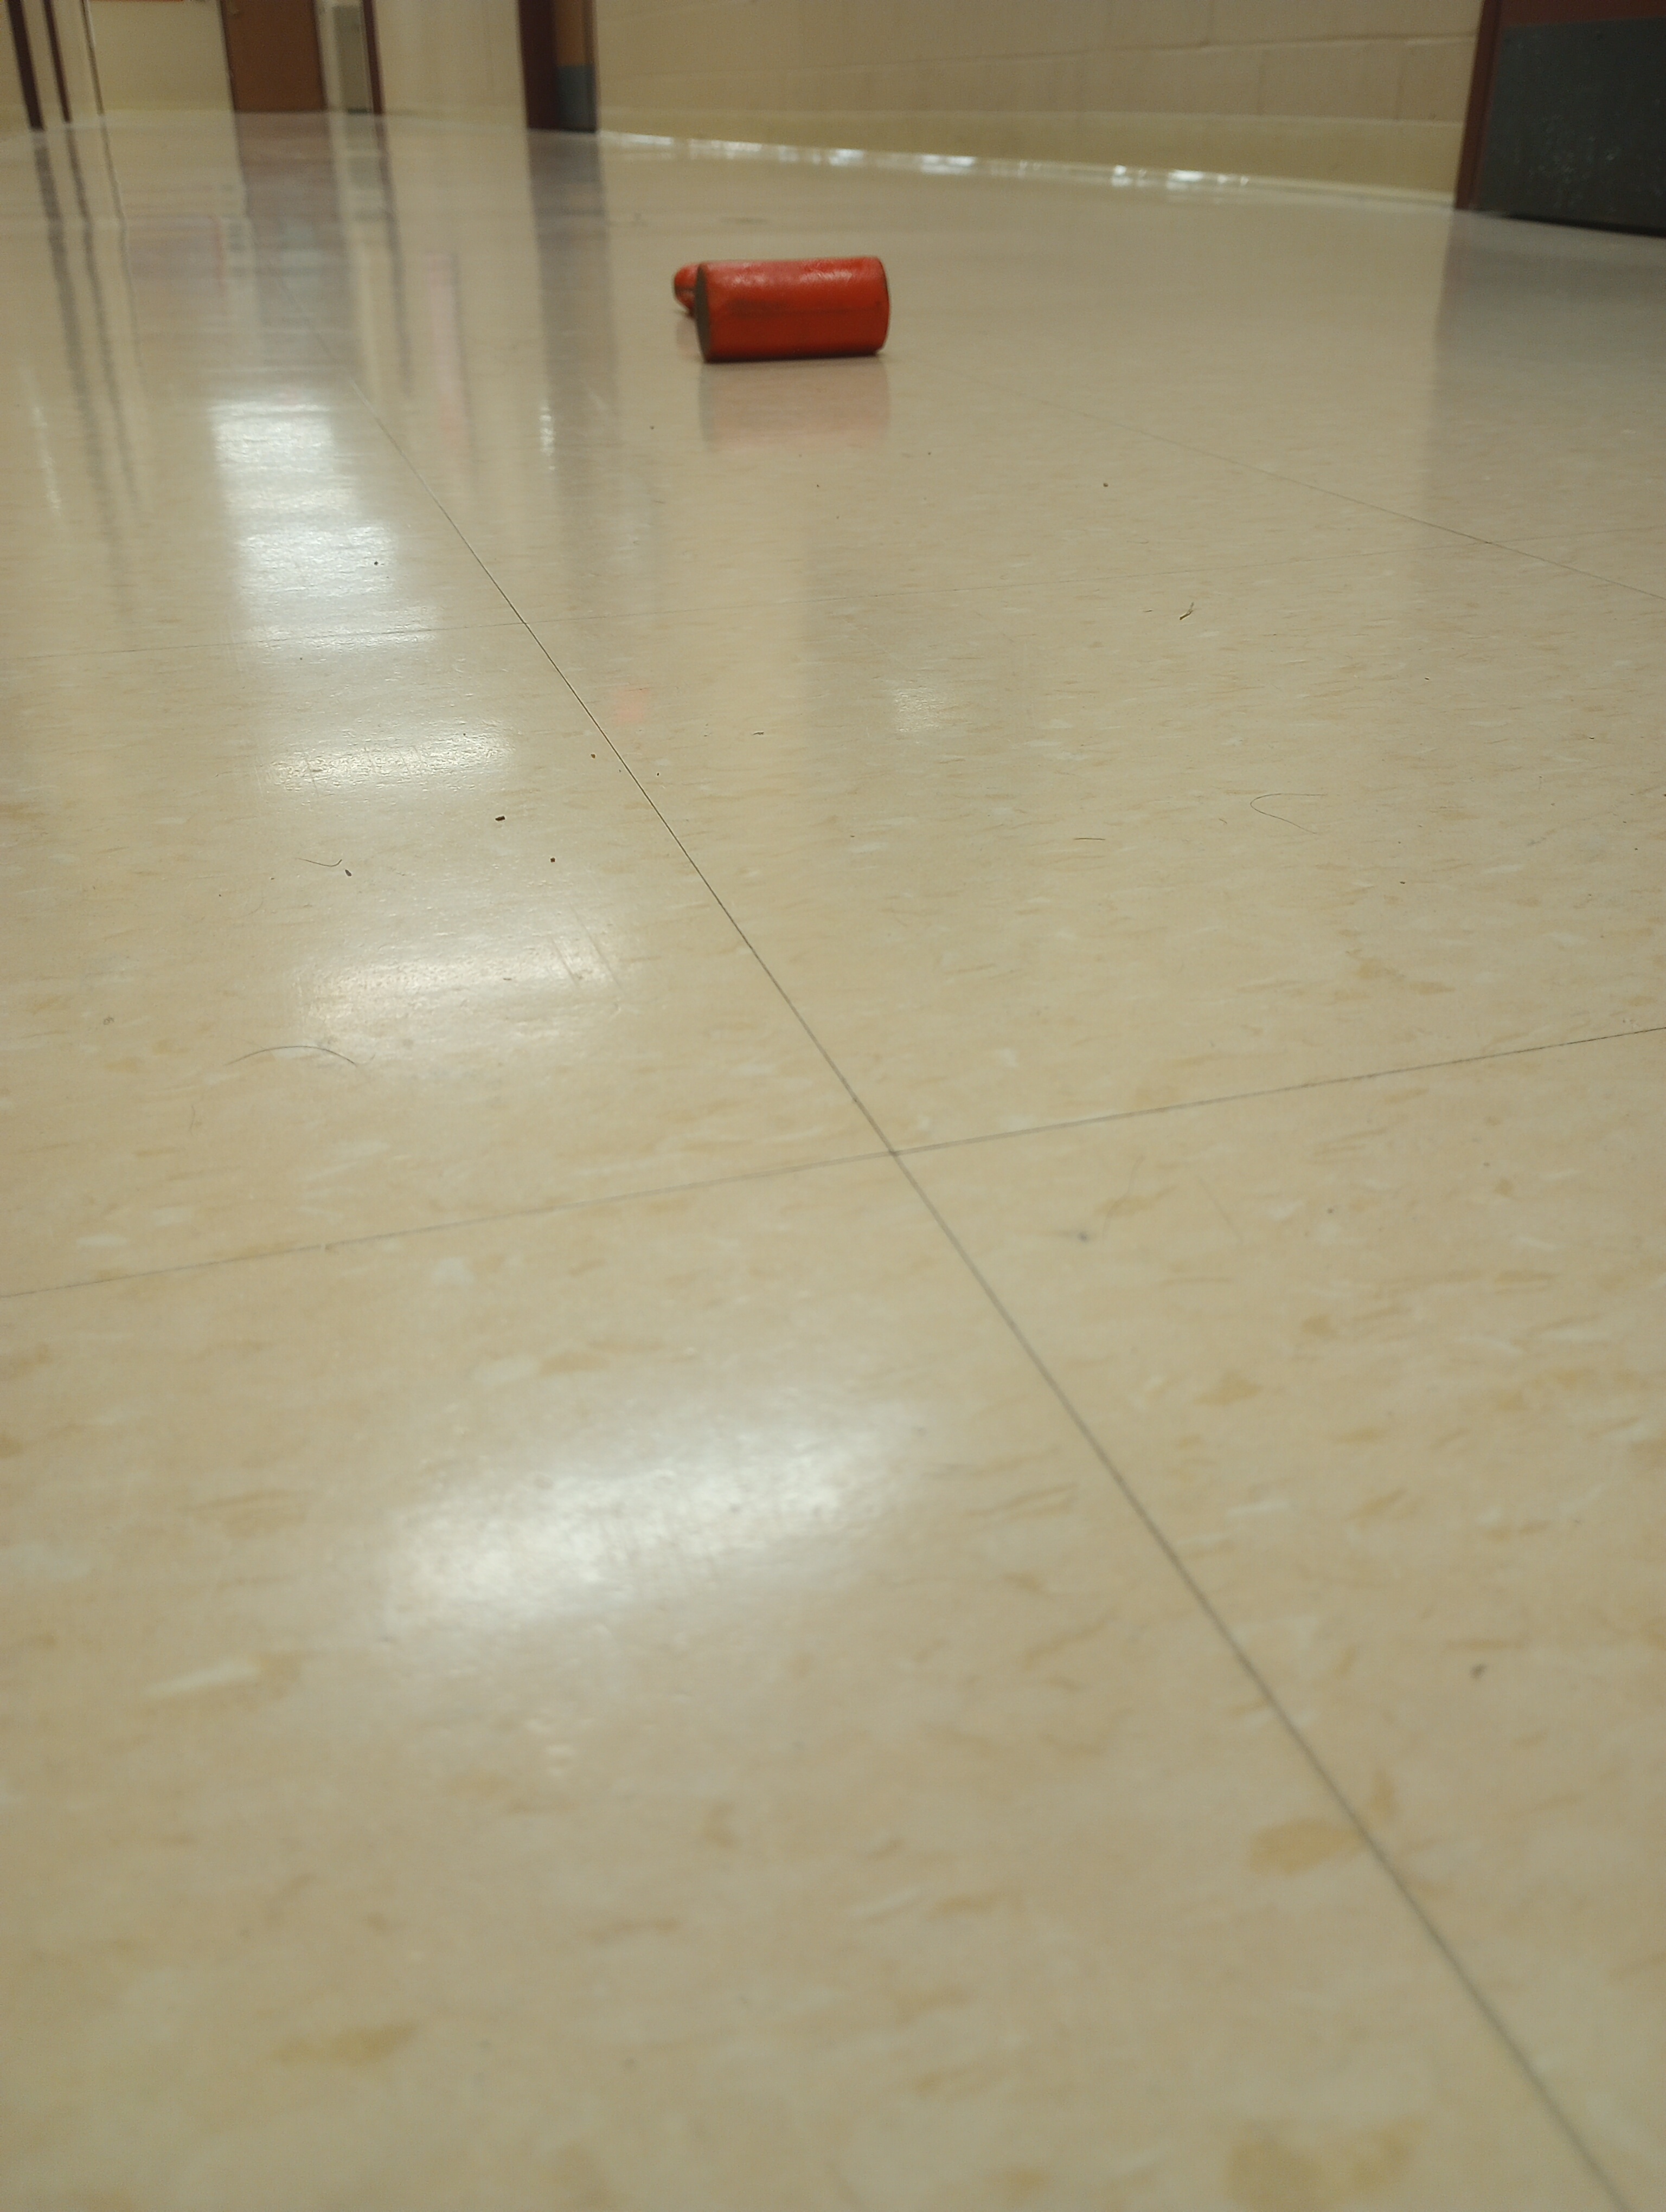hammer: (665, 241, 893, 372)
